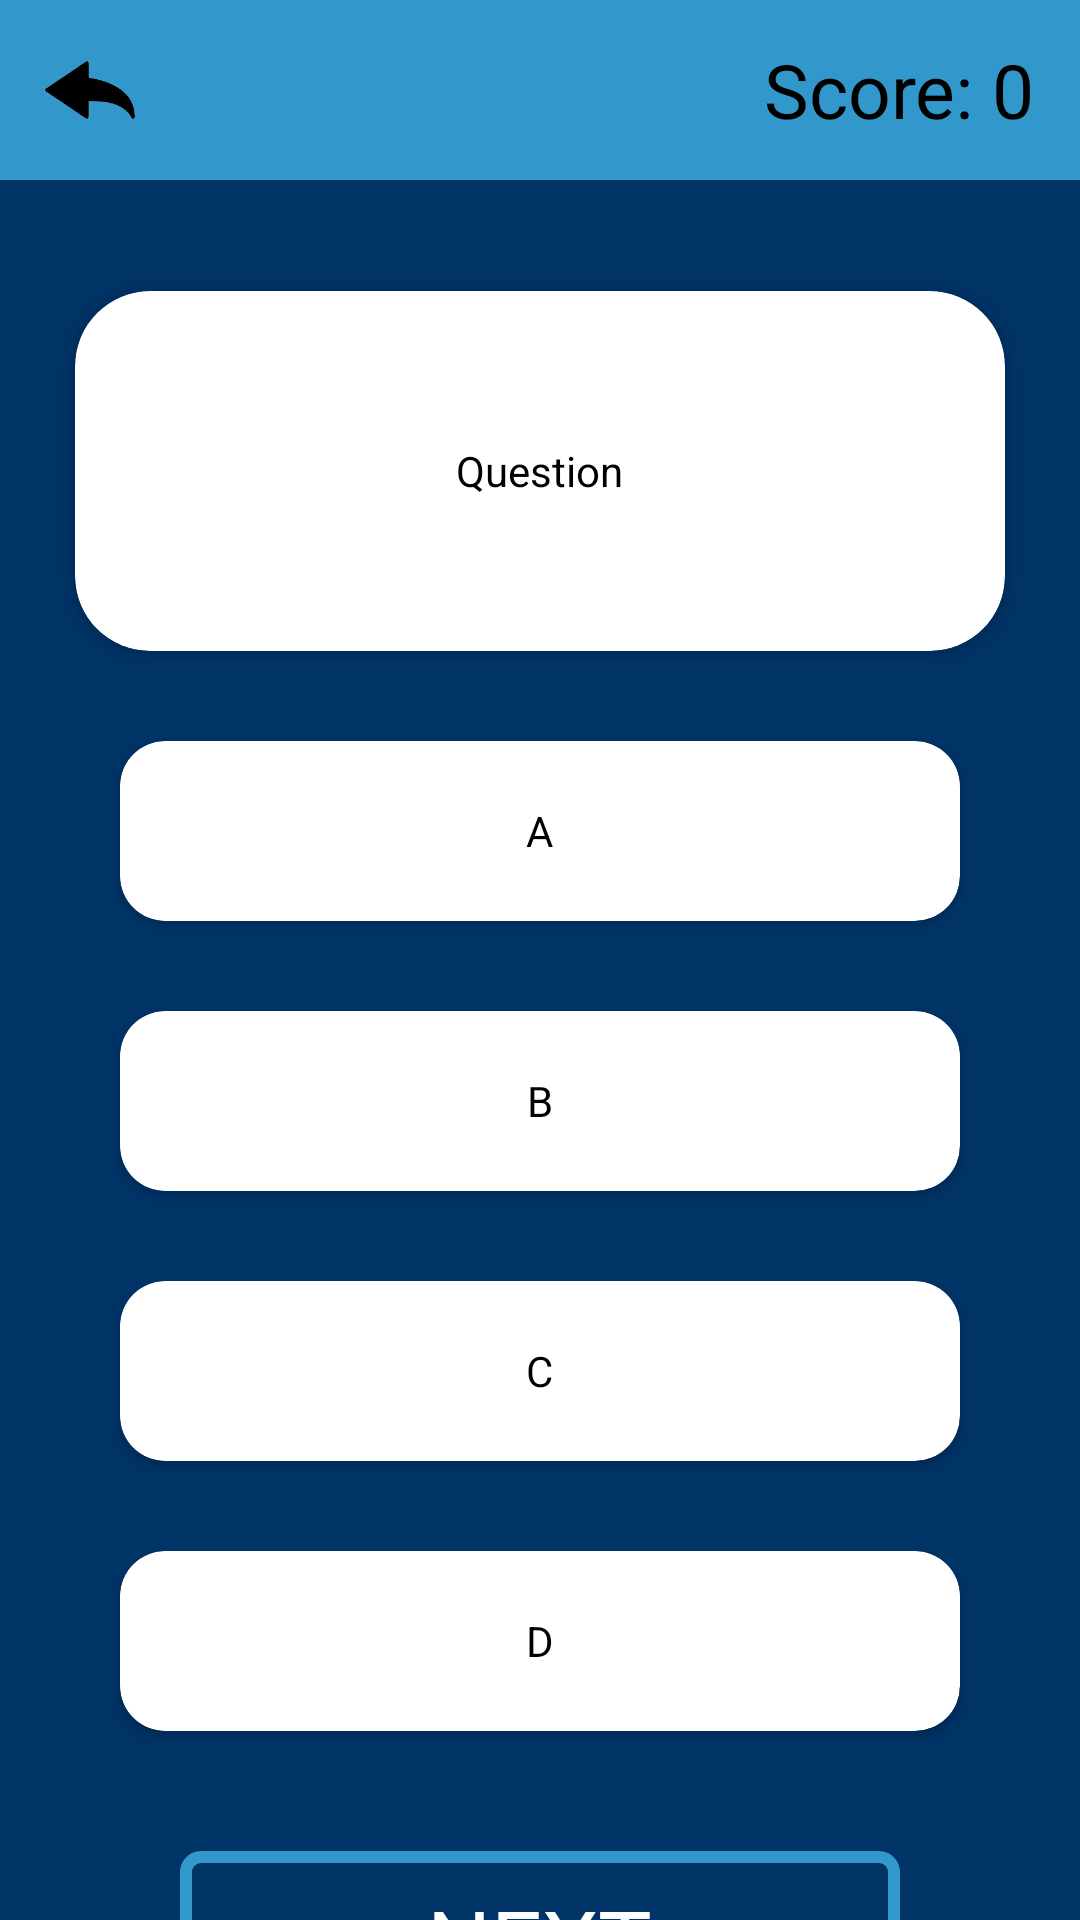

Named icons in this screenshot (1080x1920) and their bounding boxes, (x1, y1, x2, y2):
icbackmain: (45, 61, 135, 119)
